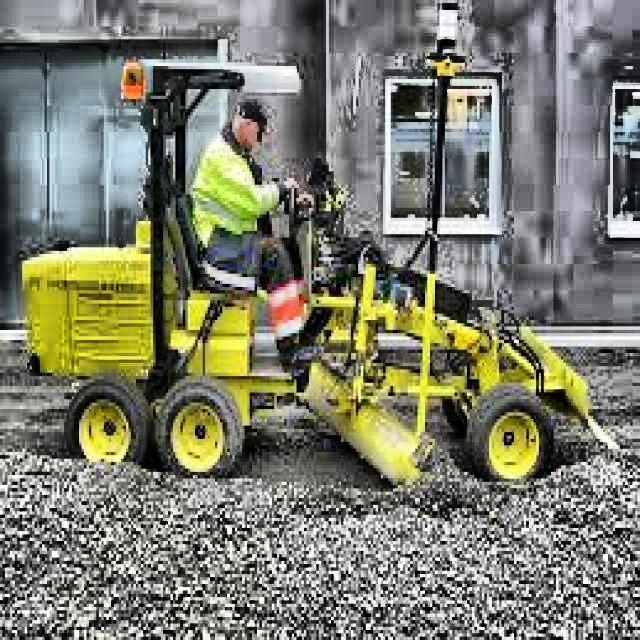bull_dozer/loader/grader: (18, 39, 626, 512)
person: (182, 96, 334, 378)
